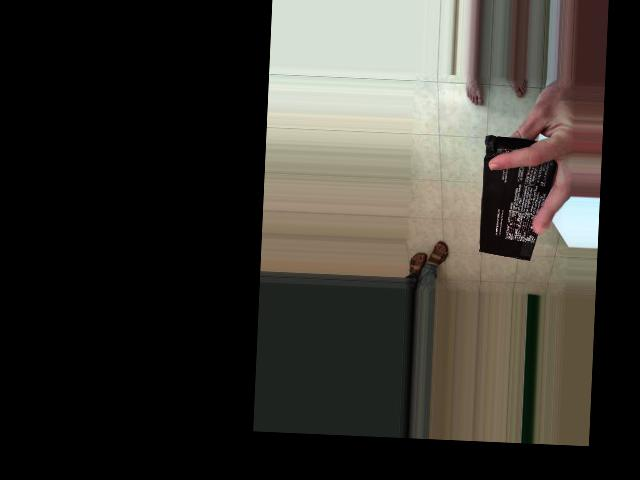chocolate: (408, 140, 538, 222)
